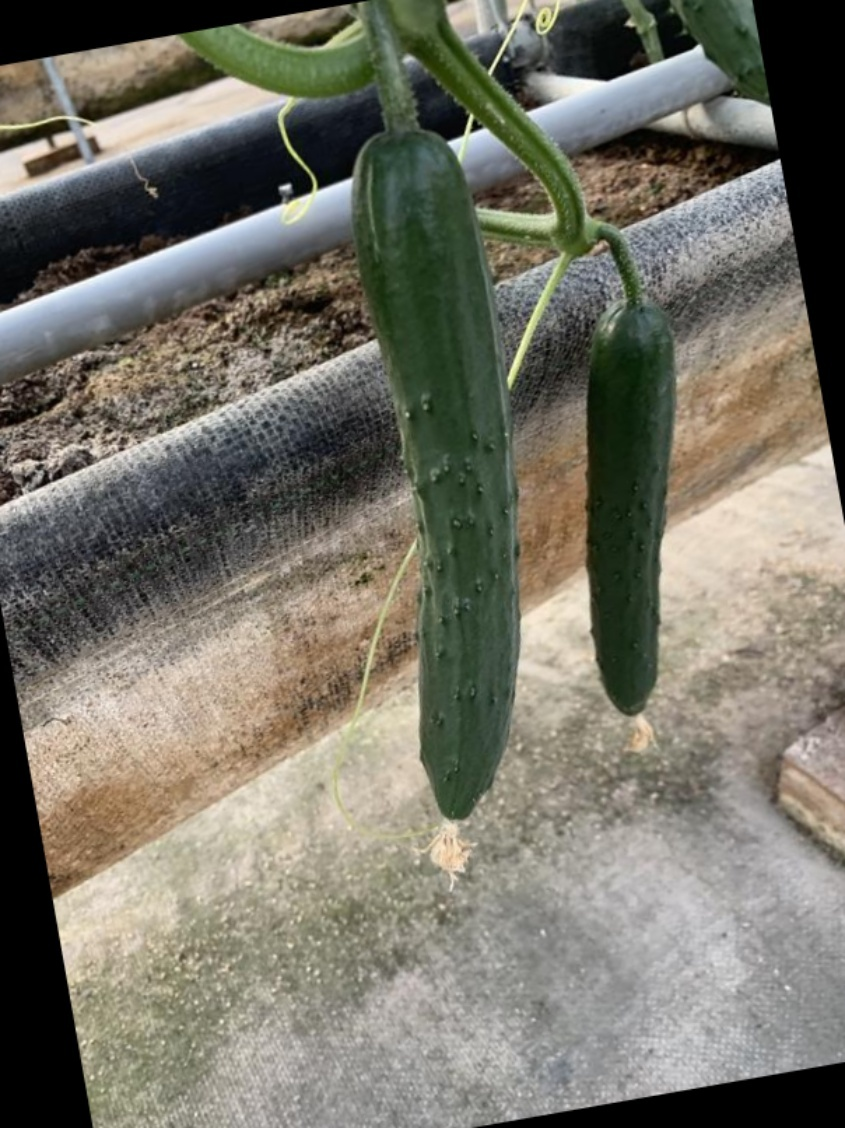mature: (573, 295, 683, 737)
